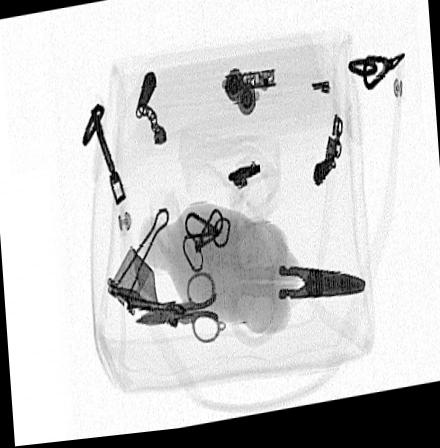Scissors: (228, 222, 366, 356)
